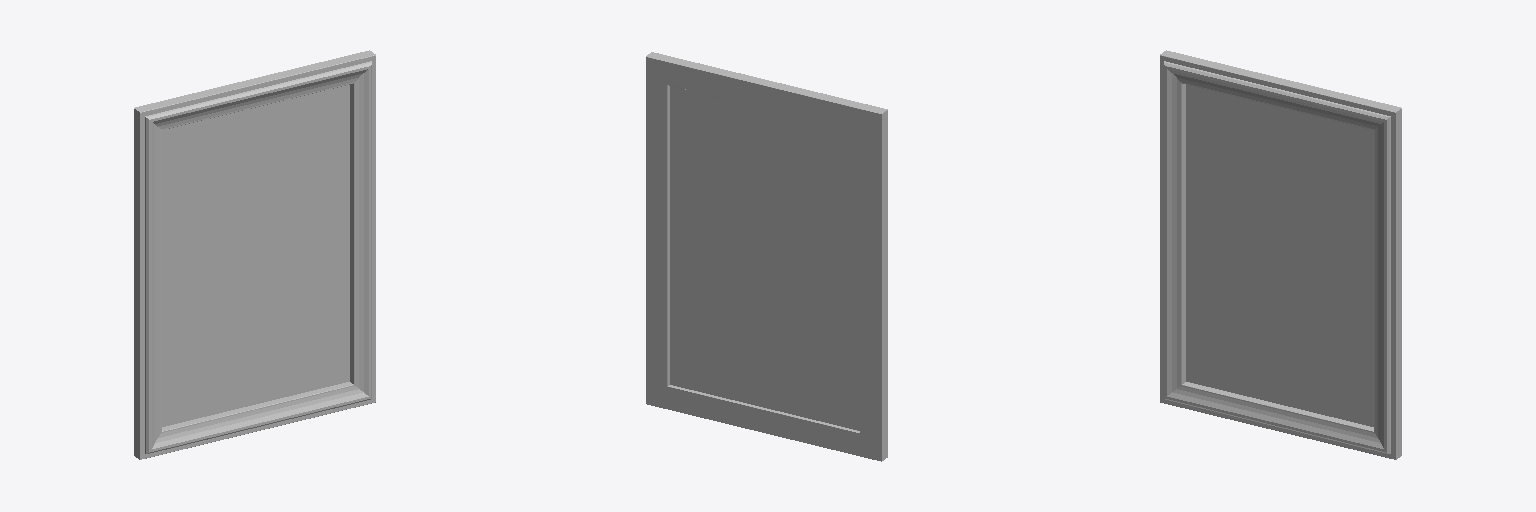
File: portrait.obj
3 renders of one model, left to right at view 1: azimuth 30°, elevation 25°; view 2: azimuth 150°, elevation 25°; view 3: azimuth 330°, elevation 25°, orthographic.
Parts seen in each view (by area): view 1: portrait_Witch_01_Linum_low.001; view 2: portrait_Witch_01_Linum_low.001; view 3: portrait_Witch_01_Linum_low.001.
Boxes of the visible parts, box(x1,y1,x2,y2) form: portrait_Witch_01_Linum_low.001: box(134, 50, 375, 459); portrait_Witch_01_Linum_low.001: box(646, 52, 887, 461); portrait_Witch_01_Linum_low.001: box(1160, 50, 1401, 459).
Bounding box in the file's own units: 2.04 × 2.87 × 0.1321.